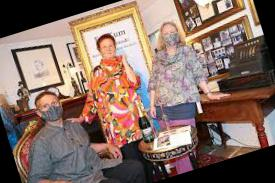mask_weared_incorrect: (101, 43, 119, 65)
with_mask: (40, 96, 63, 118), (161, 27, 179, 44)
